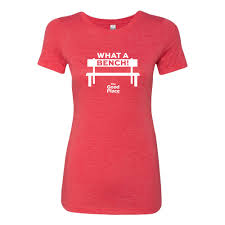T-Shirt: (37, 10, 190, 215)
